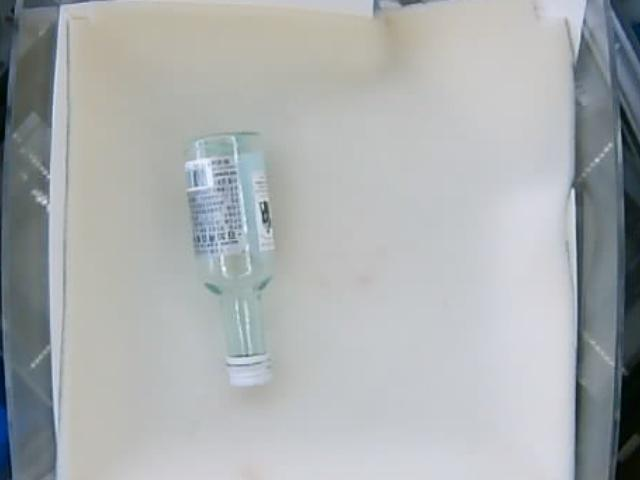Bottle: (183, 129, 278, 387)
